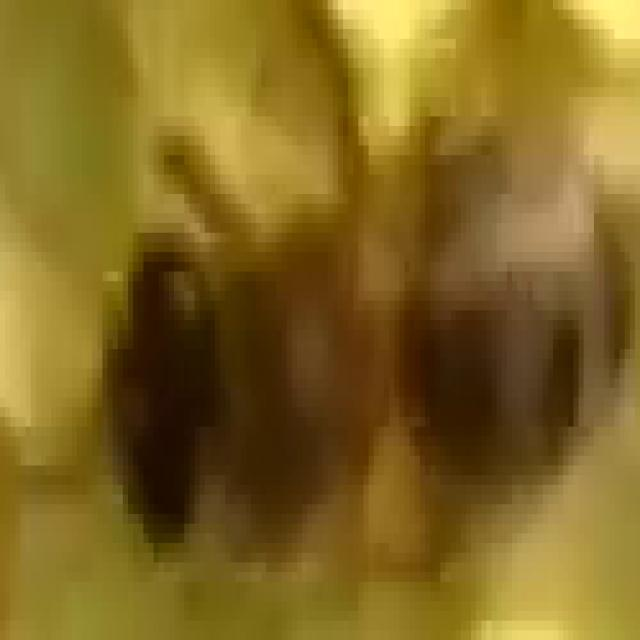honeybee: (100, 123, 633, 556)
